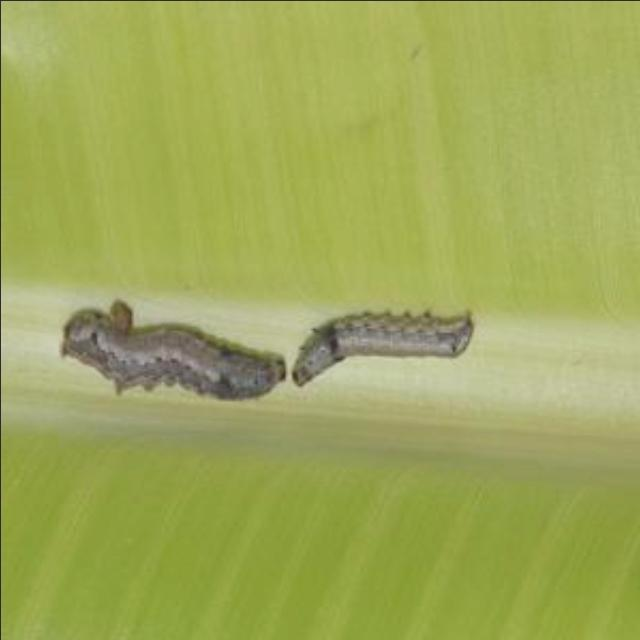Tobacco cutworm: (16, 239, 296, 447), (279, 215, 513, 457)
